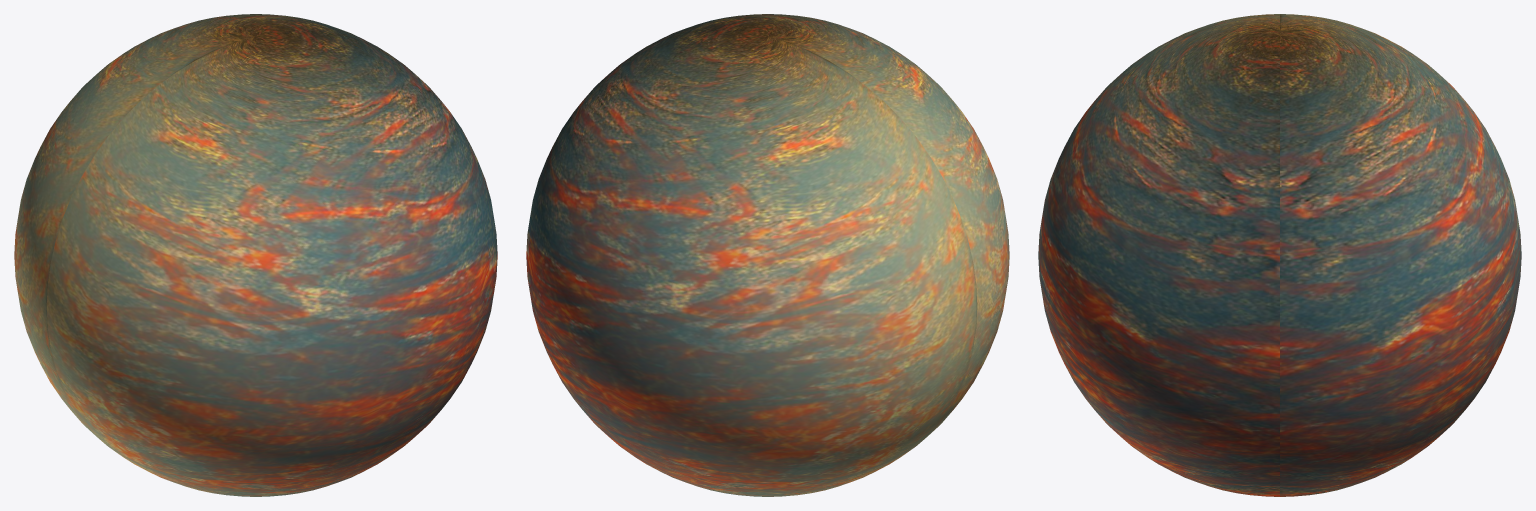
The model's file is 55_cancri_e.glb.
3 views of the same model, side by side, from view 1: azimuth 30°, elevation 25°; view 2: azimuth 150°, elevation 25°; view 3: azimuth 270°, elevation 25° (orthographic).
Visible parts, largest first — view 1: 55_cancri_e; view 2: 55_cancri_e; view 3: 55_cancri_e.
Boxes of the visible parts, left/top/right/bottom form: 55_cancri_e: left=14, top=14, right=497, bottom=496; 55_cancri_e: left=526, top=14, right=1009, bottom=496; 55_cancri_e: left=1038, top=14, right=1521, bottom=496.
Bounding box in the file's own units: 8 × 8 × 8.
Materials: 1 (1 with a texture image).
